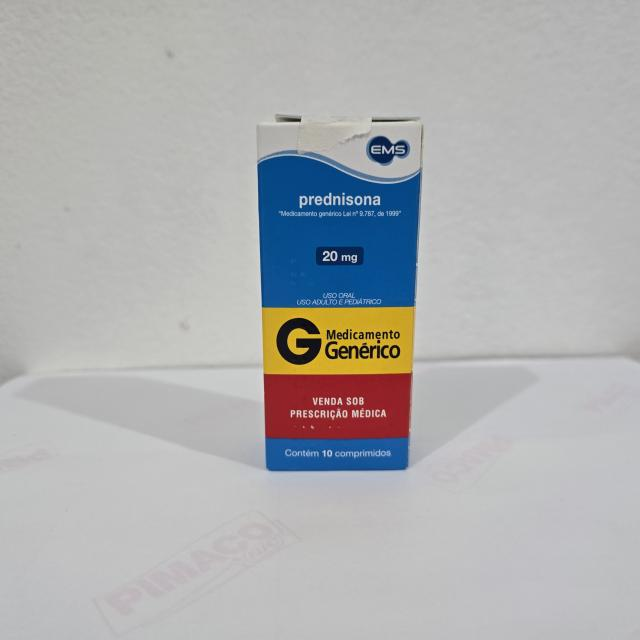prednisona: (252, 110, 427, 478)
